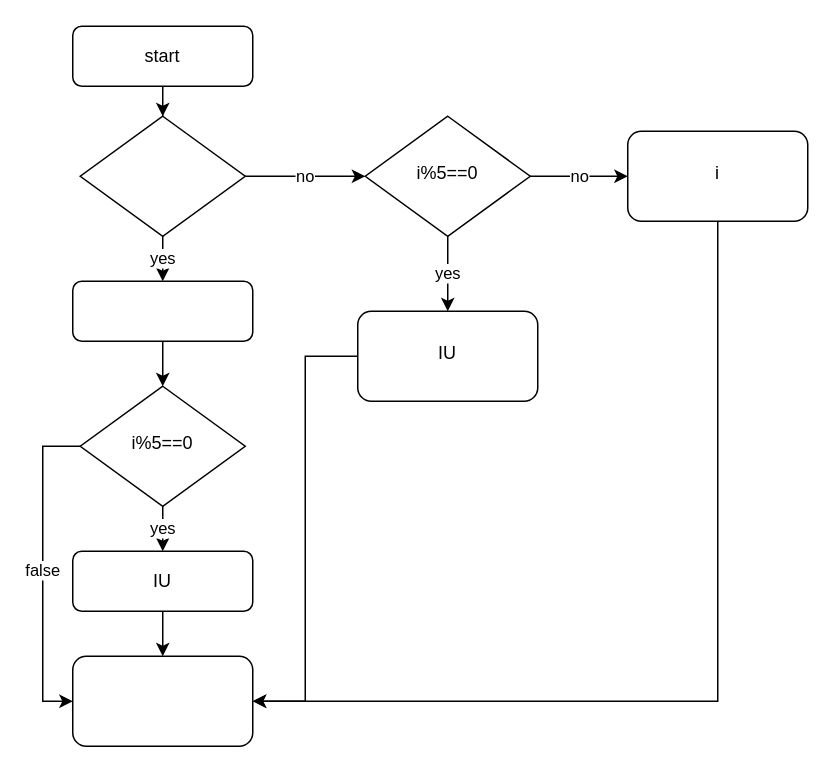
Image size: 834x773. Some labels were removed from this diagram. Each missing label, with the box of its shape:
i%3==0: (79, 115, 245, 236)
love: (71, 280, 253, 341)
return: (71, 655, 253, 746)
